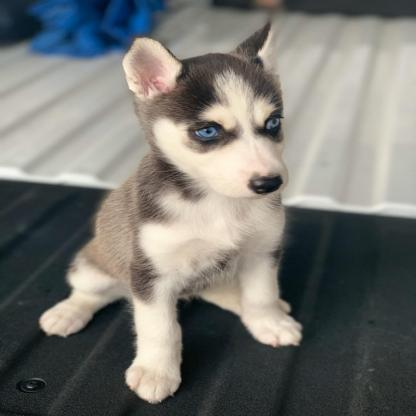dog: (37, 21, 304, 401)
